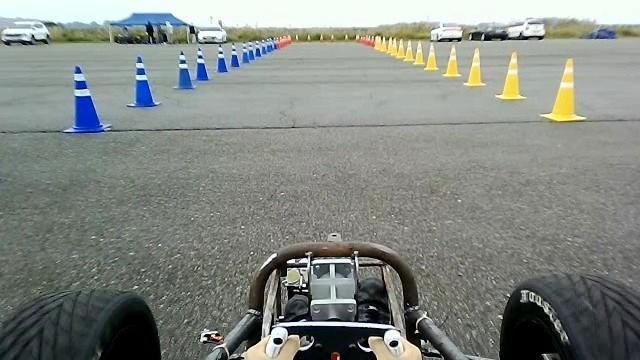blue cone: (62, 64, 112, 133), (126, 55, 161, 107), (172, 50, 196, 89), (194, 47, 210, 81), (215, 43, 229, 73), (230, 42, 240, 67)
yellow cone: (539, 57, 587, 121), (494, 51, 526, 100), (463, 47, 487, 86), (442, 44, 462, 77), (423, 41, 439, 70), (413, 40, 425, 65)
